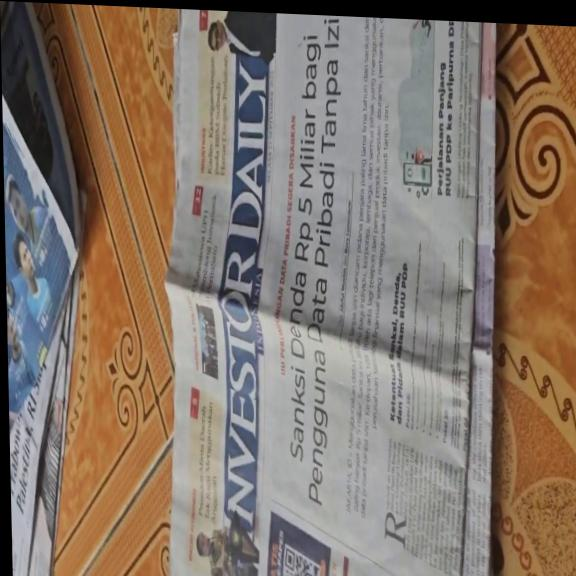Kertas: (159, 12, 504, 576)
